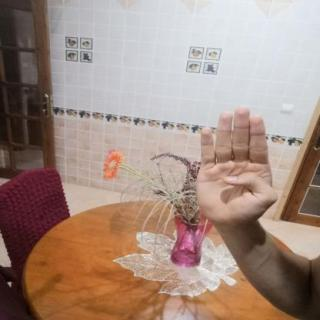KAAF: (182, 100, 291, 239)
